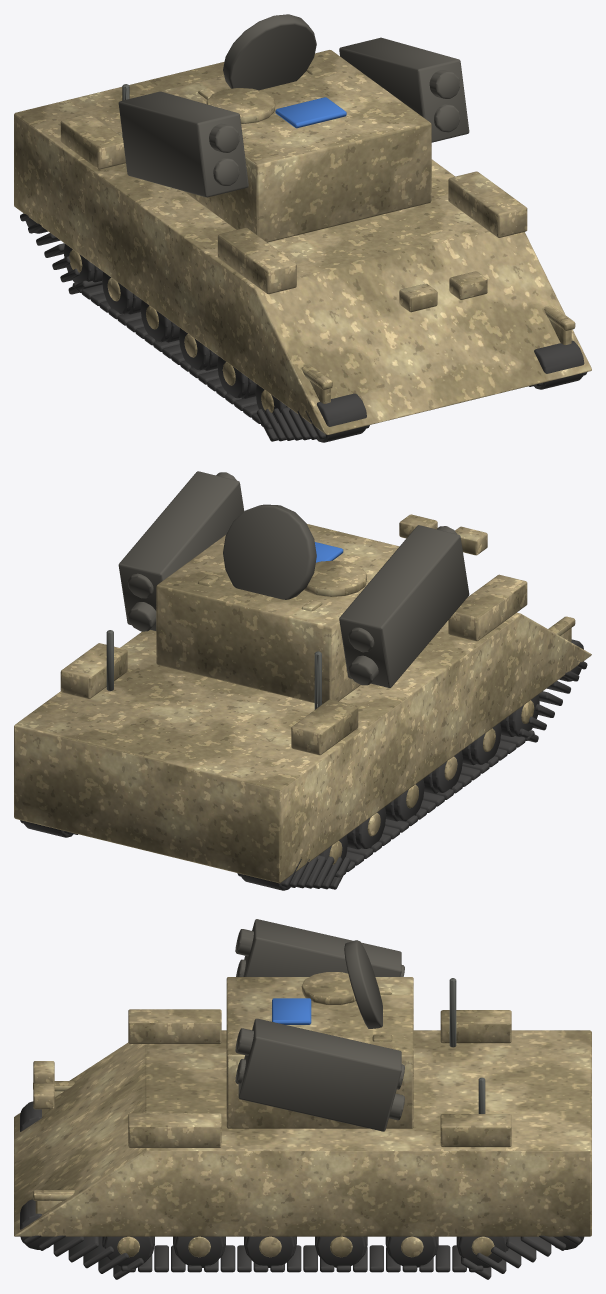
Rendered from aad_e4_us_shorad_LOD0.glb.
The picture shows the model from 3 angles, top to bottom: view 1: azimuth 30°, elevation 25°; view 2: azimuth 150°, elevation 25°; view 3: azimuth 270°, elevation 25°; orthographic projection. The views are drawn at different scales.
Visible parts, largest first — view 1: aad_e4_us_shorad_LOD0_body, aad_e4_us_shorad_LOD0_deck, aad_e4_us_shorad_LOD0_track, aad_e4_us_shorad_LOD0_team; view 2: aad_e4_us_shorad_LOD0_body, aad_e4_us_shorad_LOD0_deck, aad_e4_us_shorad_LOD0_track, aad_e4_us_shorad_LOD0_gun; view 3: aad_e4_us_shorad_LOD0_body, aad_e4_us_shorad_LOD0_deck, aad_e4_us_shorad_LOD0_track, aad_e4_us_shorad_LOD0_team, aad_e4_us_shorad_LOD0_gun.
Boxes of the visible parts, box(x1,y1,x2,y2) form: aad_e4_us_shorad_LOD0_body: box(14, 50, 591, 434); aad_e4_us_shorad_LOD0_deck: box(118, 14, 469, 197); aad_e4_us_shorad_LOD0_track: box(20, 213, 587, 442); aad_e4_us_shorad_LOD0_team: box(275, 97, 346, 128); aad_e4_us_shorad_LOD0_body: box(14, 514, 591, 883); aad_e4_us_shorad_LOD0_deck: box(118, 471, 469, 687); aad_e4_us_shorad_LOD0_track: box(20, 639, 587, 890); aad_e4_us_shorad_LOD0_gun: box(106, 630, 321, 709); aad_e4_us_shorad_LOD0_body: box(14, 972, 591, 1257); aad_e4_us_shorad_LOD0_deck: box(235, 919, 404, 1131); aad_e4_us_shorad_LOD0_track: box(20, 1101, 584, 1279); aad_e4_us_shorad_LOD0_team: box(272, 998, 311, 1024); aad_e4_us_shorad_LOD0_gun: box(449, 978, 485, 1113).
Size of the model in its own units: 3.2 by 3.42 by 6.49.
5 materials, 1 textured.
